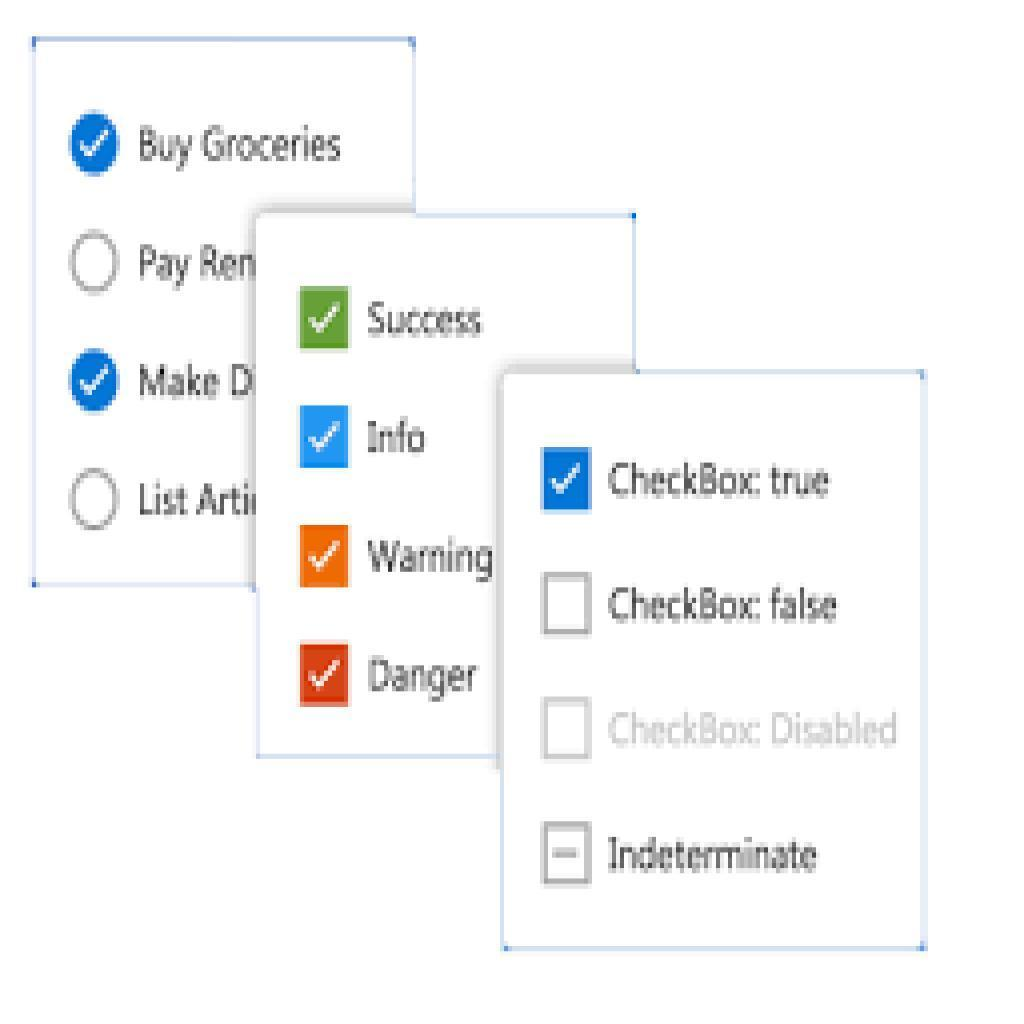checkbox: (299, 641, 353, 709), (543, 819, 595, 885), (299, 525, 351, 590), (541, 447, 594, 510), (298, 405, 349, 470), (301, 284, 350, 351), (541, 700, 595, 760), (541, 573, 591, 636)
radio: (67, 340, 122, 417), (64, 107, 121, 181), (69, 226, 124, 298), (70, 467, 122, 540)
